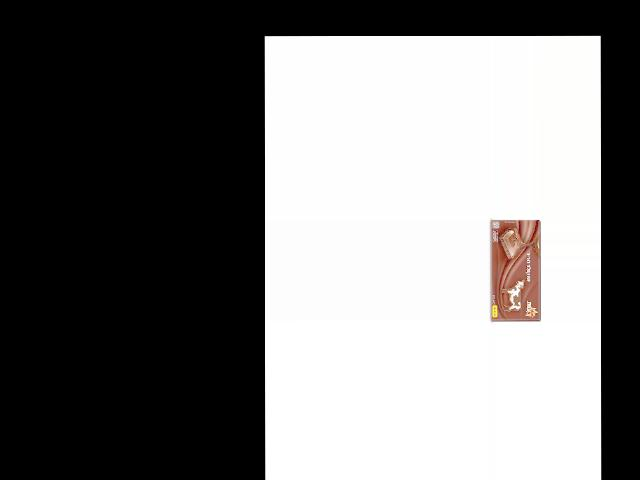chocolate: (489, 220, 541, 324)
